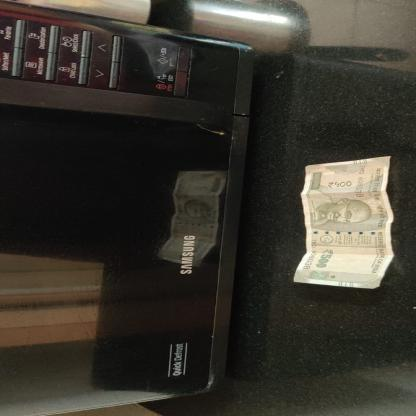New500Front: (289, 156, 400, 290)
